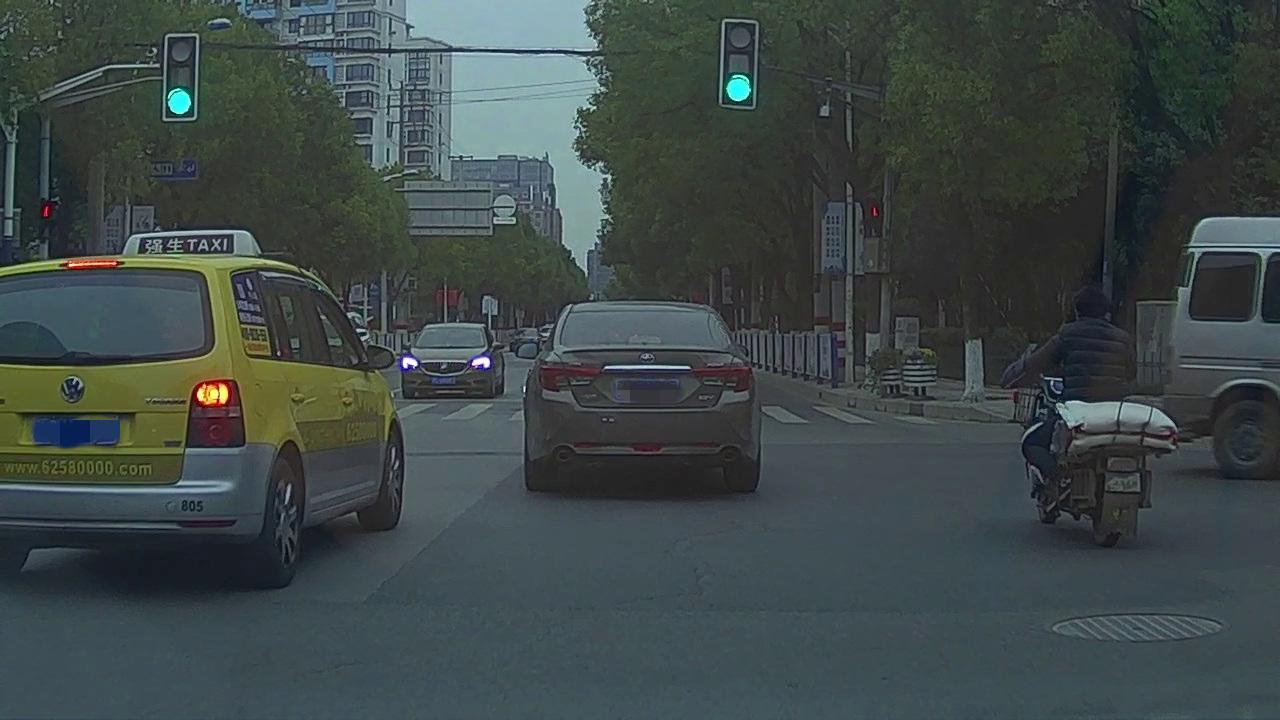traffic_light: (166, 35, 196, 119), (725, 20, 753, 104)
